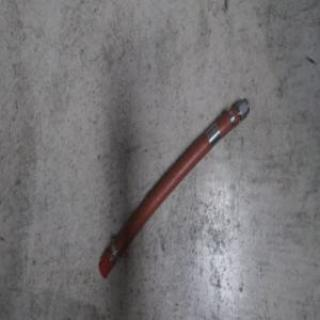Hosetrack_idkeyframe: (96, 95, 250, 282)
